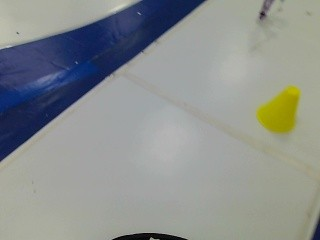cone: (257, 79, 303, 140)
